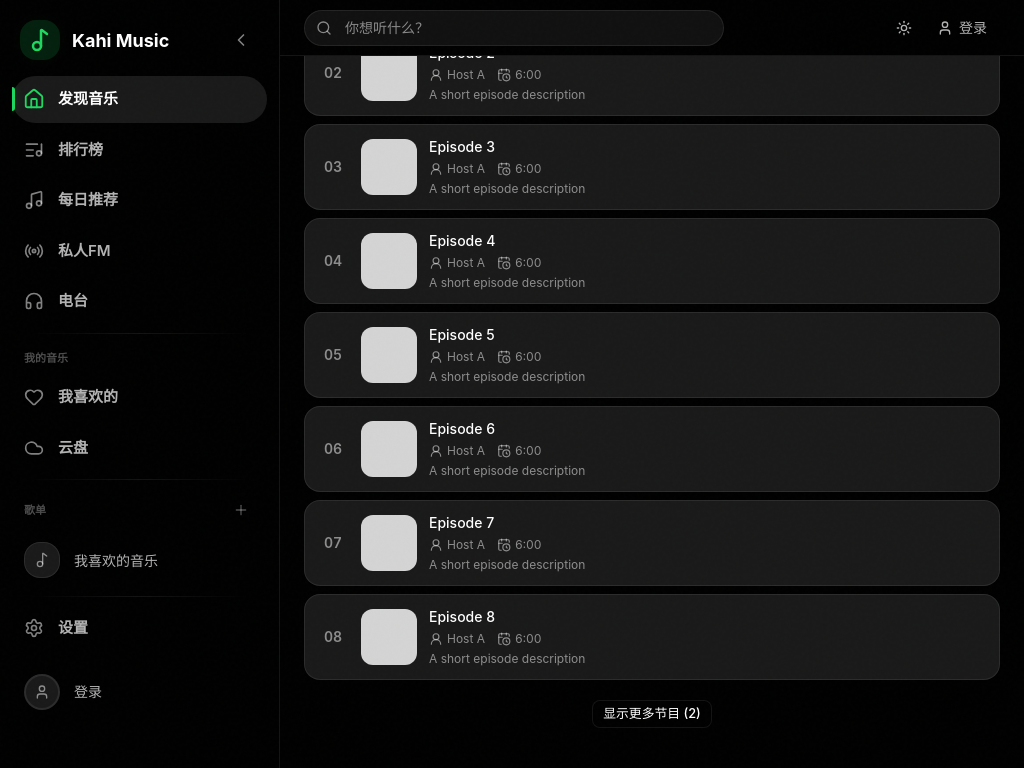
Test: RadioDetailPage › renders a lighter initial program list and expands on demand
(page scrolled)
Expected: the element with test id "radio-program-card-8" is shown, x1=304 y1=594 x2=1000 y2=680
Click the button with test id "radio-program-load-more". click: coordinates (652, 714)
box: x1=592 y1=700 x2=712 y2=728
(page scrolled)
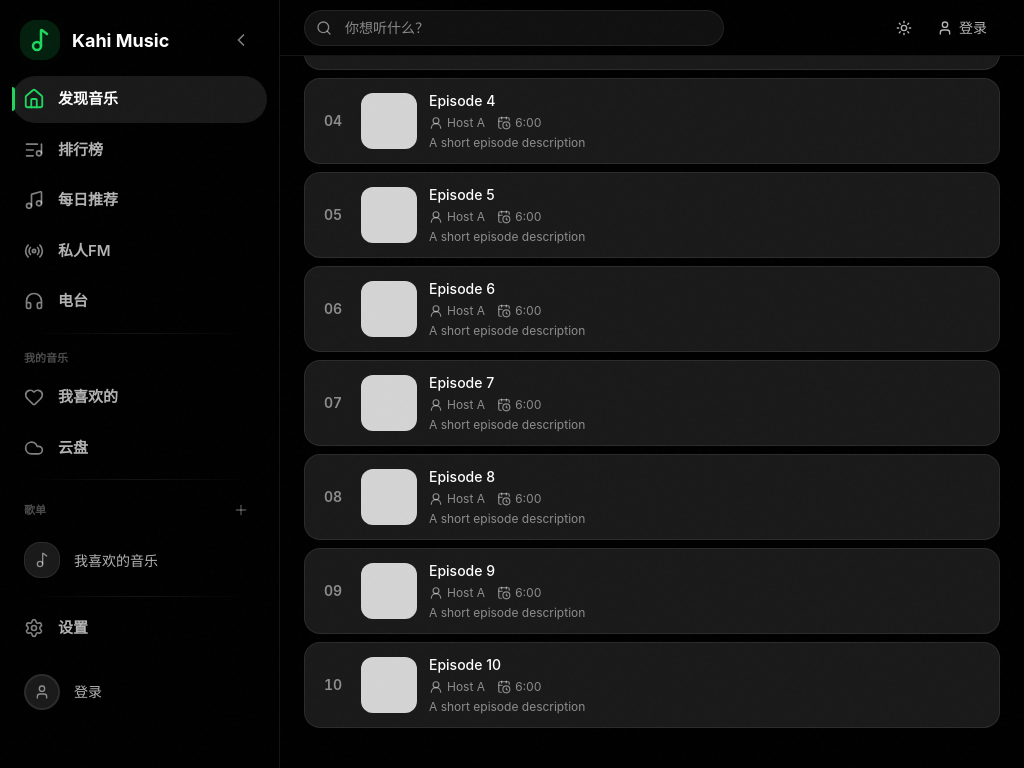
Now the element with test id "radio-program-card-9" is shown, box x1=304 y1=548 x2=1000 y2=634
Now the element with test id "radio-program-card-10" is shown, box x1=304 y1=642 x2=1000 y2=728
Now the button with test id "radio-program-load-more" is gone
